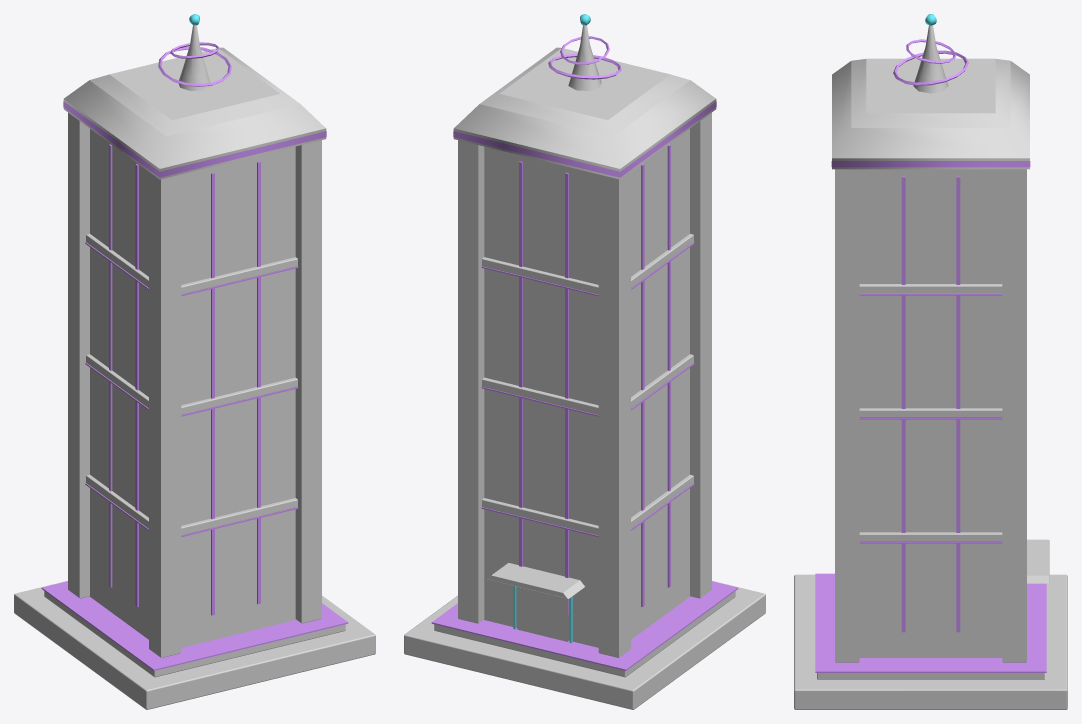
Rendered from TechTower.glb.
The picture shows the model from 3 angles, left to right: view 1: azimuth 30°, elevation 25°; view 2: azimuth 150°, elevation 25°; view 3: azimuth 270°, elevation 25°; orthographic projection. The views are drawn at different scales.
Parts seen in each view (by area): view 1: Body, Glow; view 2: Body, Glow; view 3: Body, Glow.
Part boxes in pixels (x1,y1,x2,y2): Body: [14, 25, 375, 709]; Glow: [41, 42, 348, 670]; Body: [404, 25, 765, 709]; Glow: [431, 36, 738, 670]; Body: [794, 25, 1067, 709]; Glow: [815, 39, 1046, 672].
Size of the model in its own units: 18 by 46.27 by 18.
